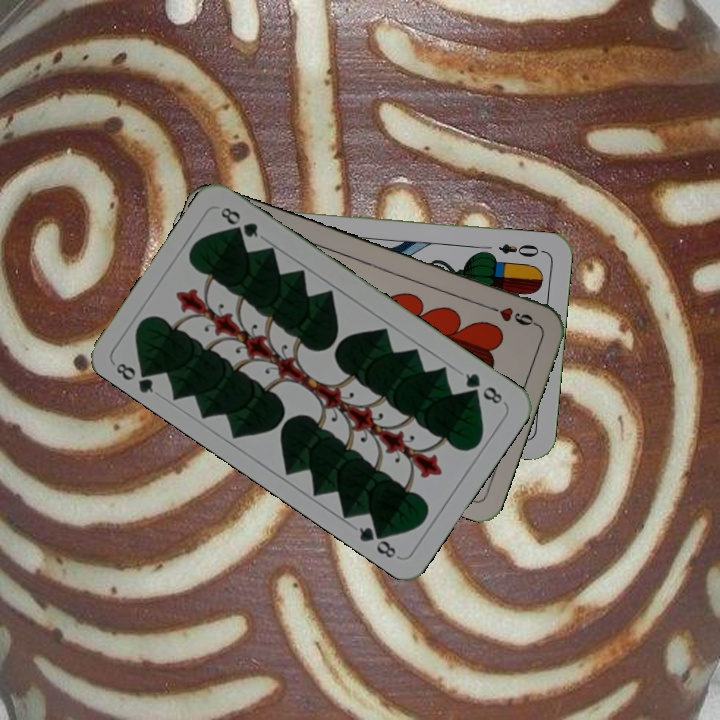EO: (494, 239, 547, 260)
G8: (111, 358, 158, 396), (461, 369, 505, 407)
H9: (483, 301, 540, 329)
